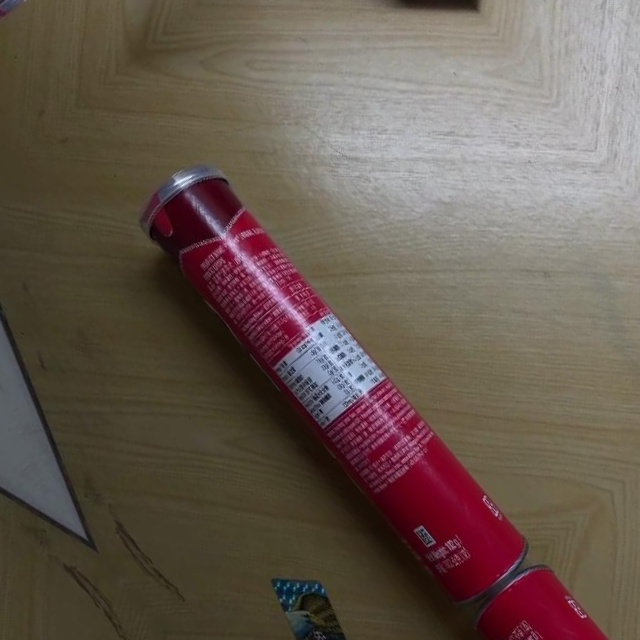Pringles: (123, 149, 538, 617)
